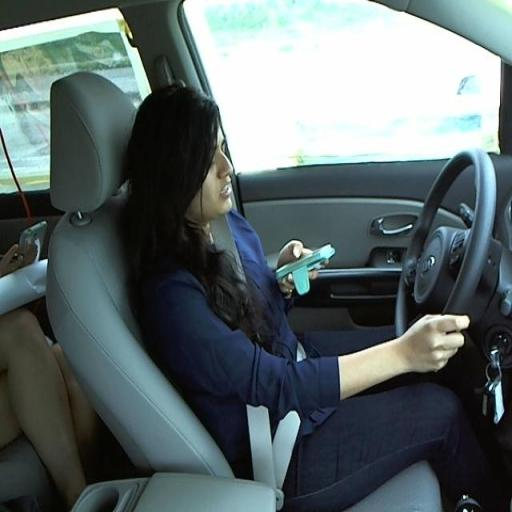texting_phone: (131, 88, 472, 474)
